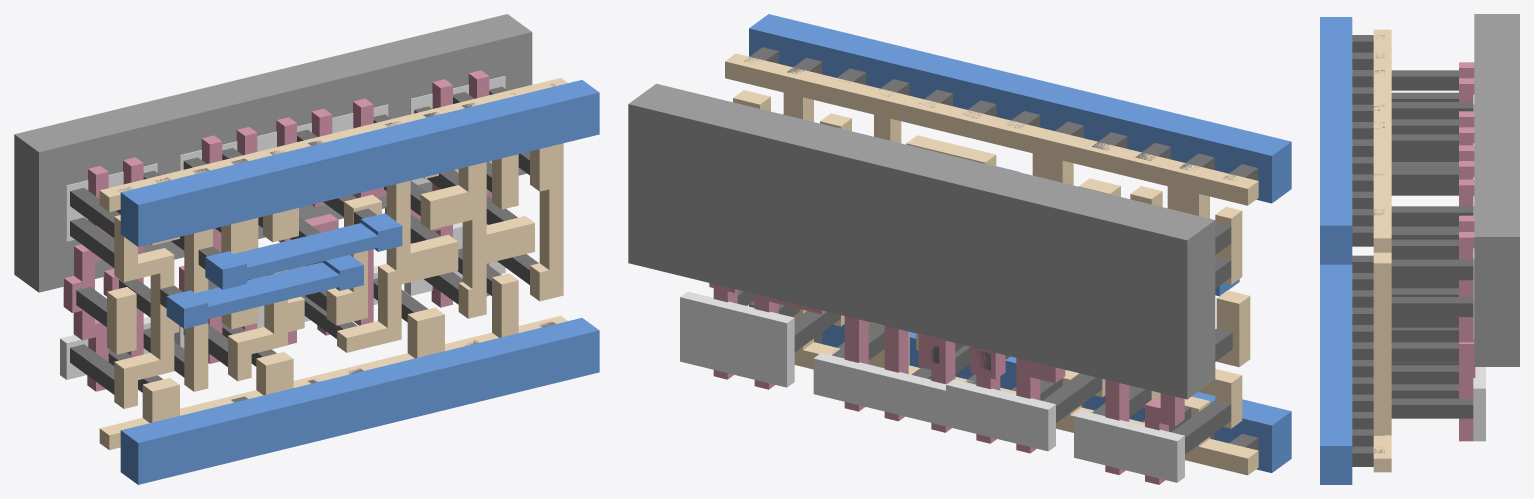
The model's file is sky130_fd_sc_hd__dlxtp_1.gds.gltf.
3 renders of one model, left to right at view 1: azimuth 30°, elevation 25°; view 2: azimuth 150°, elevation 25°; view 3: azimuth 270°, elevation 25°, orthographic. The views are drawn at different scales.
Visible parts, largest first — view 1: sky130_fd_sc_hd__dlxtp_1_met1, sky130_fd_sc_hd__dlxtp_1_li1, sky130_fd_sc_hd__dlxtp_1_nwell, sky130_fd_sc_hd__dlxtp_1_licon, sky130_fd_sc_hd__dlxtp_1_poly, sky130_fd_sc_hd__dlxtp_1_diff, sky130_fd_sc_hd__dlxtp_1_mcon; view 2: sky130_fd_sc_hd__dlxtp_1_nwell, sky130_fd_sc_hd__dlxtp_1_li1, sky130_fd_sc_hd__dlxtp_1_met1, sky130_fd_sc_hd__dlxtp_1_diff, sky130_fd_sc_hd__dlxtp_1_poly, sky130_fd_sc_hd__dlxtp_1_licon, sky130_fd_sc_hd__dlxtp_1_mcon; view 3: sky130_fd_sc_hd__dlxtp_1_licon, sky130_fd_sc_hd__dlxtp_1_nwell, sky130_fd_sc_hd__dlxtp_1_met1, sky130_fd_sc_hd__dlxtp_1_mcon, sky130_fd_sc_hd__dlxtp_1_li1, sky130_fd_sc_hd__dlxtp_1_poly, sky130_fd_sc_hd__dlxtp_1_diff.
Part boxes in pixels (bbox=[...]): sky130_fd_sc_hd__dlxtp_1_met1: bbox=[120, 80, 599, 484]; sky130_fd_sc_hd__dlxtp_1_li1: bbox=[99, 78, 567, 450]; sky130_fd_sc_hd__dlxtp_1_nwell: bbox=[14, 14, 532, 292]; sky130_fd_sc_hd__dlxtp_1_licon: bbox=[70, 86, 538, 394]; sky130_fd_sc_hd__dlxtp_1_poly: bbox=[63, 70, 491, 391]; sky130_fd_sc_hd__dlxtp_1_diff: bbox=[60, 76, 505, 379]; sky130_fd_sc_hd__dlxtp_1_mcon: bbox=[116, 84, 555, 402]; sky130_fd_sc_hd__dlxtp_1_nwell: bbox=[628, 83, 1215, 399]; sky130_fd_sc_hd__dlxtp_1_li1: bbox=[725, 53, 1258, 475]; sky130_fd_sc_hd__dlxtp_1_met1: bbox=[749, 14, 1291, 472]; sky130_fd_sc_hd__dlxtp_1_diff: bbox=[680, 291, 1184, 482]; sky130_fd_sc_hd__dlxtp_1_poly: bbox=[709, 283, 1184, 484]; sky130_fd_sc_hd__dlxtp_1_licon: bbox=[737, 114, 1232, 454]; sky130_fd_sc_hd__dlxtp_1_mcon: bbox=[744, 47, 1258, 450]; sky130_fd_sc_hd__dlxtp_1_licon: bbox=[1391, 70, 1473, 418]; sky130_fd_sc_hd__dlxtp_1_nwell: bbox=[1474, 14, 1519, 366]; sky130_fd_sc_hd__dlxtp_1_met1: bbox=[1320, 17, 1352, 484]; sky130_fd_sc_hd__dlxtp_1_mcon: bbox=[1352, 35, 1384, 466]; sky130_fd_sc_hd__dlxtp_1_li1: bbox=[1373, 29, 1391, 472]; sky130_fd_sc_hd__dlxtp_1_poly: bbox=[1459, 62, 1475, 441]; sky130_fd_sc_hd__dlxtp_1_diff: bbox=[1473, 94, 1485, 441].
Size of the model in its own units: 5.9 by 3.2 by 2.24.
